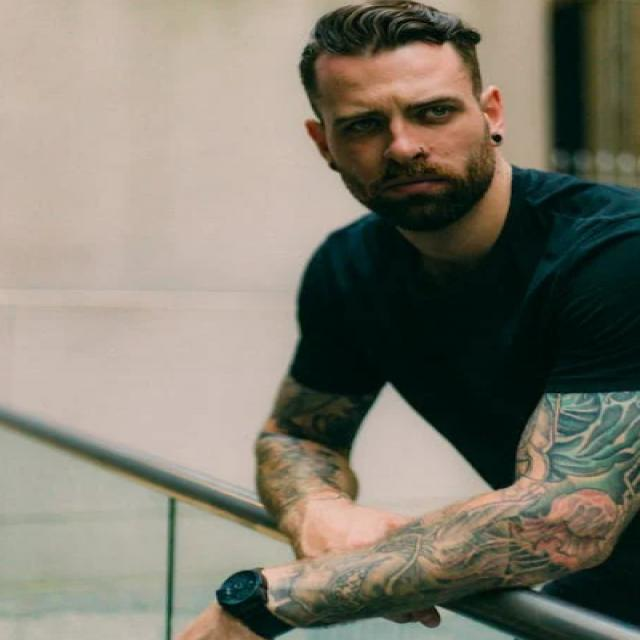Watch: (216, 565, 300, 640)
